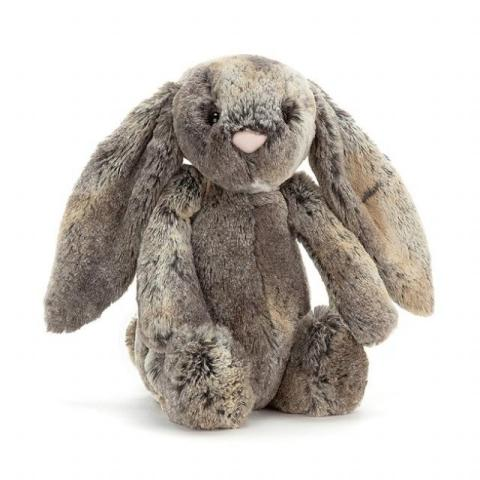small_animal: (41, 52, 436, 432)
